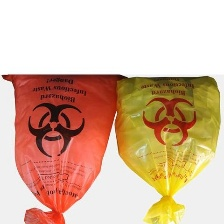plastic_bag: (0, 69, 133, 224), (110, 73, 224, 224)
